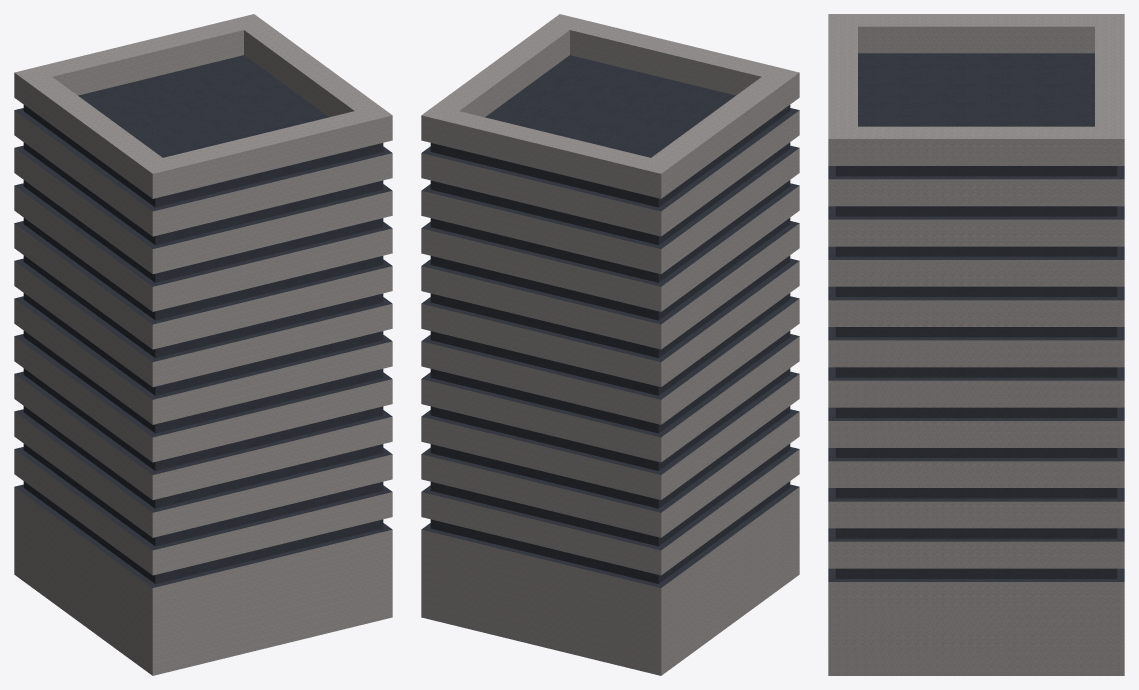
The model's file is building2.fbx.
3 views of the same model, side by side, from view 1: azimuth 30°, elevation 25°; view 2: azimuth 150°, elevation 25°; view 3: azimuth 270°, elevation 25° (orthographic). The views are drawn at different scales.
Visible parts, largest first — view 1: Model; view 2: Model; view 3: Model.
Boxes of the visible parts, x1,y1,x2,y2 form: Model: (14,14,392,675); Model: (421,14,799,675); Model: (828,14,1124,675).
Bounding box in the file's own units: 10 × 20 × 10.
